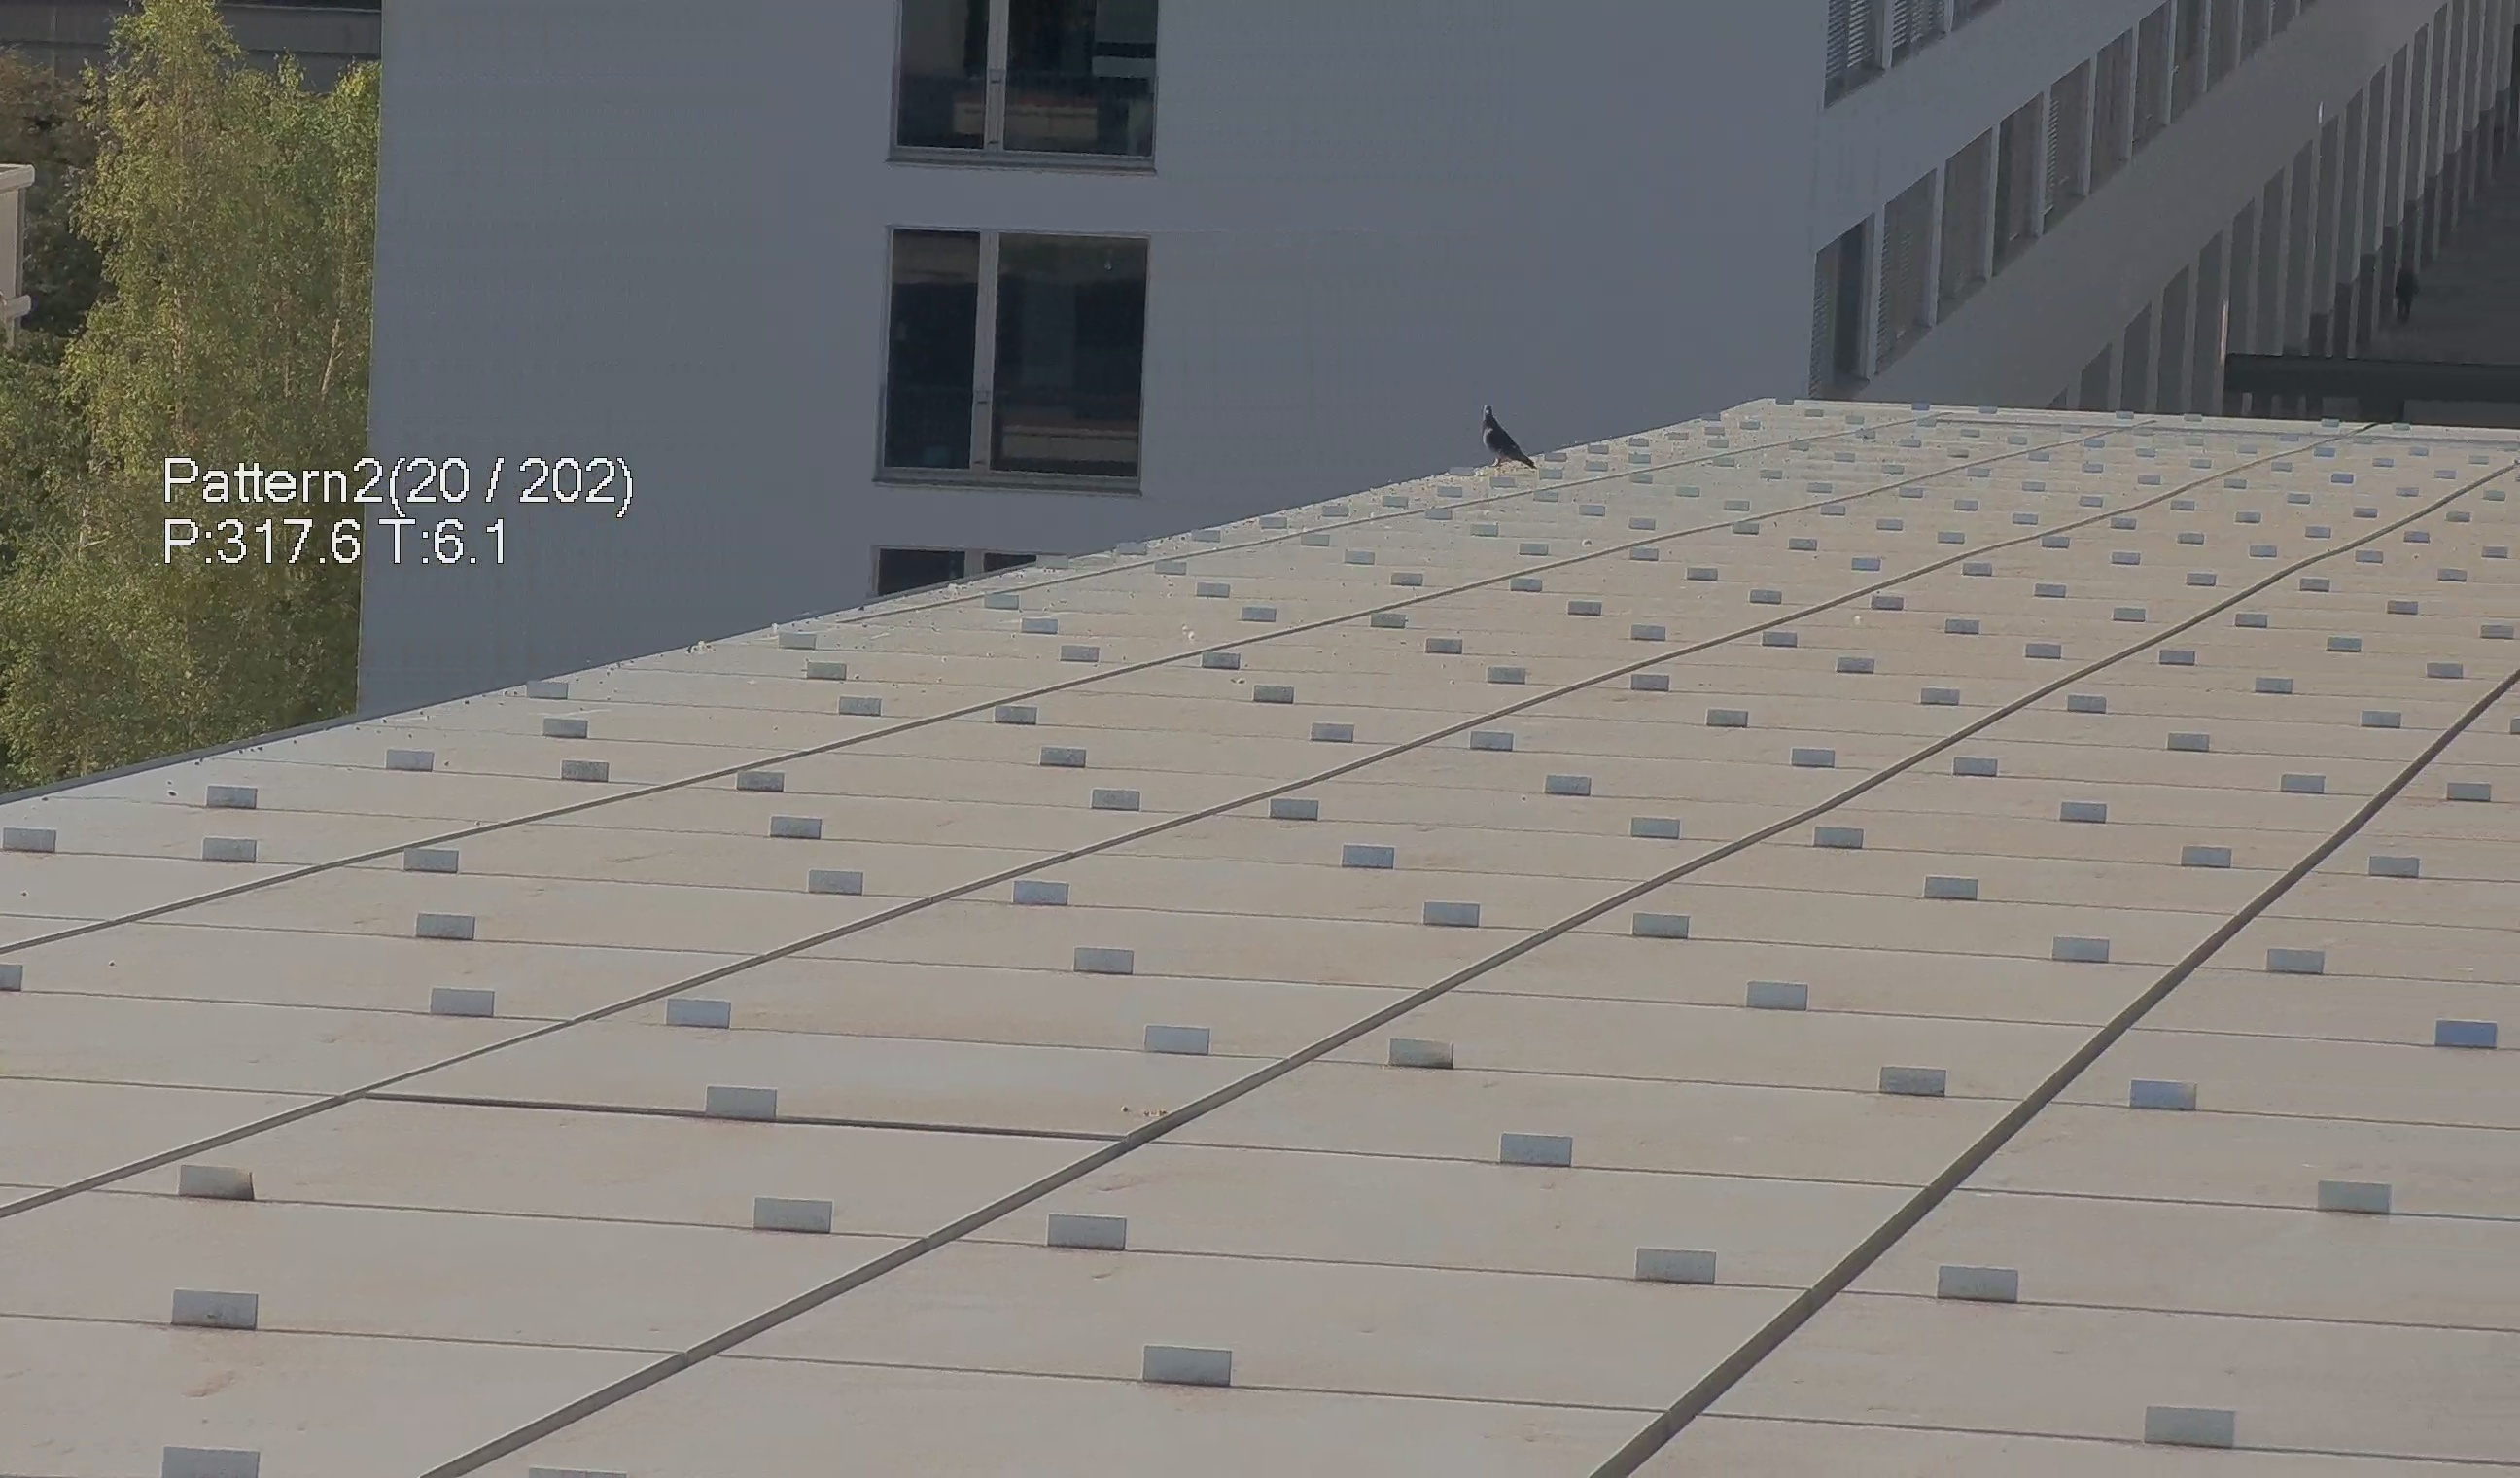Pigeon: (1468, 394, 1542, 479)
